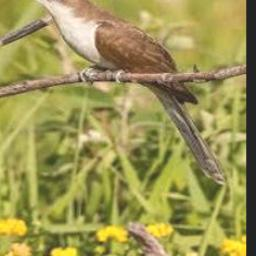Cuckoo: (12, 0, 228, 183)
